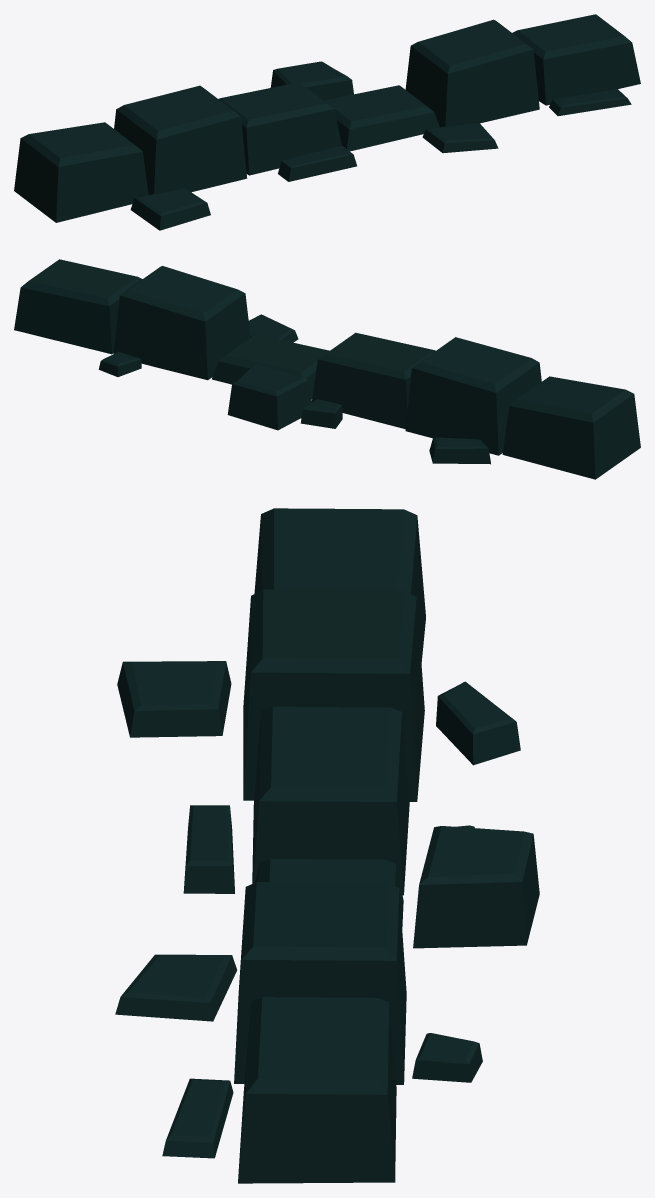
The model's file is fencesection011_stone_0.167_lev1.glb.
The picture shows the model from 3 angles, top to bottom: view 1: azimuth 30°, elevation 25°; view 2: azimuth 150°, elevation 25°; view 3: azimuth 270°, elevation 25°; orthographic projection. The views are drawn at different scales.
Visible parts, largest first — view 1: fencesection011_stone_0.167_lev1; view 2: fencesection011_stone_0.167_lev1; view 3: fencesection011_stone_0.167_lev1.
Boxes of the visible parts, bbox=[...] form: fencesection011_stone_0.167_lev1: bbox=[14, 14, 640, 230]; fencesection011_stone_0.167_lev1: bbox=[14, 259, 640, 479]; fencesection011_stone_0.167_lev1: bbox=[115, 508, 539, 1183].
Size of the model in its own units: 2.35 by 0.2582 by 0.745.
